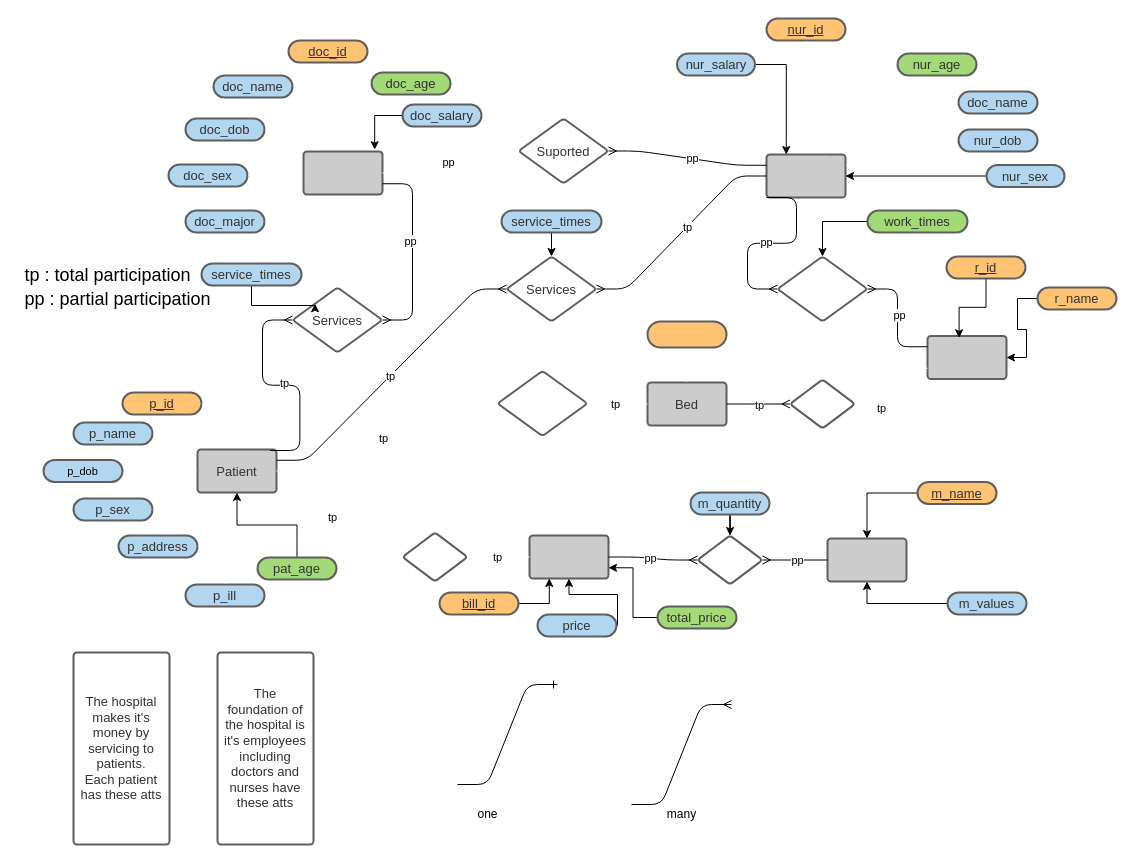
Image size: 1134x862. Some labels were removed from this diagram. The centre of each missing label's shape, as x and y in pixels:
b_id: pixel 686 334
Belong to: pixel 822 403
Bill: pixel 568 556
Doctor: pixel 342 172
Have: pixel 729 559
Medicine: pixel 866 559
Nurse: pixel 805 175
Pays: pixel 434 556
Room: pixel 966 357
Uses: pixel 542 403
Work in: pixel 822 288
